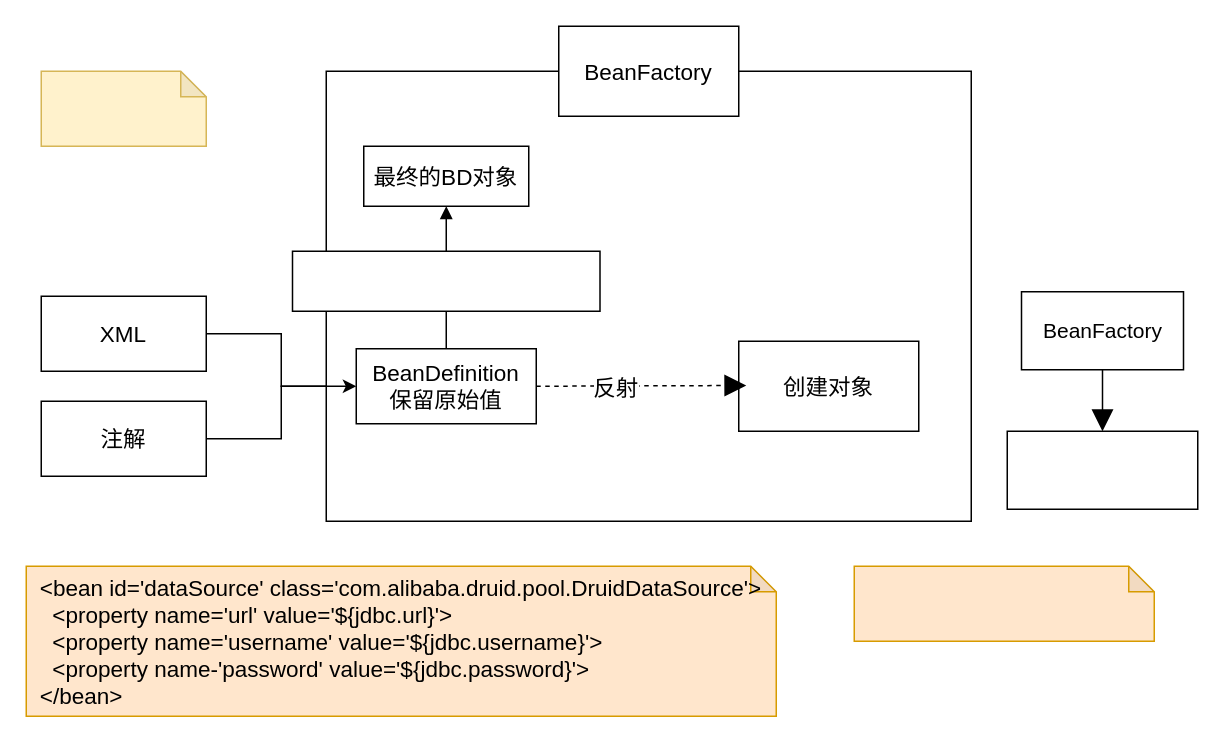
Some shapes in this 1224 by 743 pixel diagram are drawn without their labels. Each missing label, with the box of its shape:
ApplicationContext: (1006, 430, 1198, 509)
BeanFactoryPostProcessor: (291, 250, 600, 311)
bean定义信息: (40, 70, 206, 146)
context.getBean(Person.class): (853, 565, 1154, 641)
